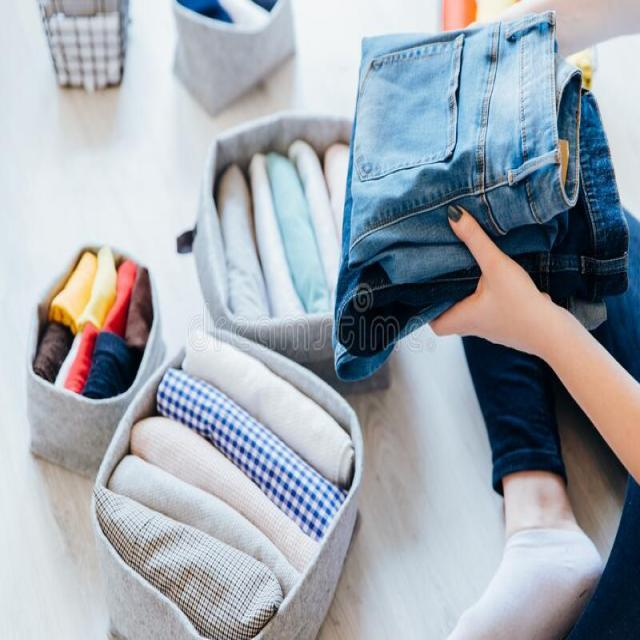clothes: (352, 16, 599, 289), (120, 421, 352, 613), (221, 150, 351, 298), (169, 346, 309, 449), (52, 253, 148, 368)
